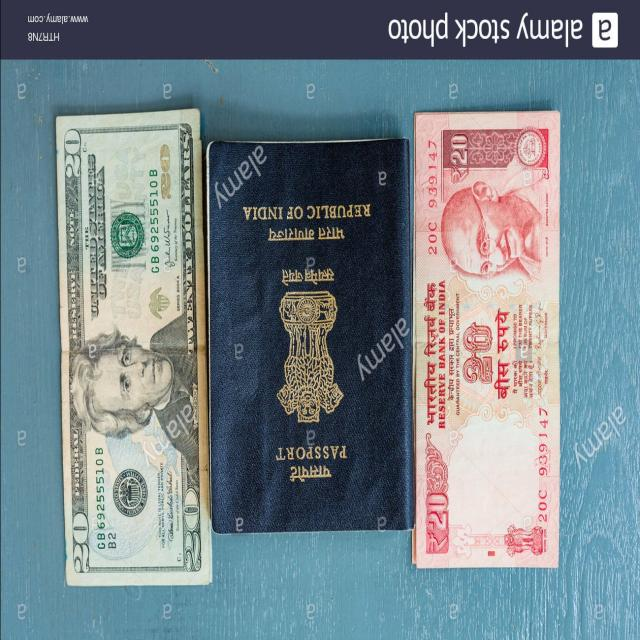20IndianRupees: (416, 113, 560, 564)
